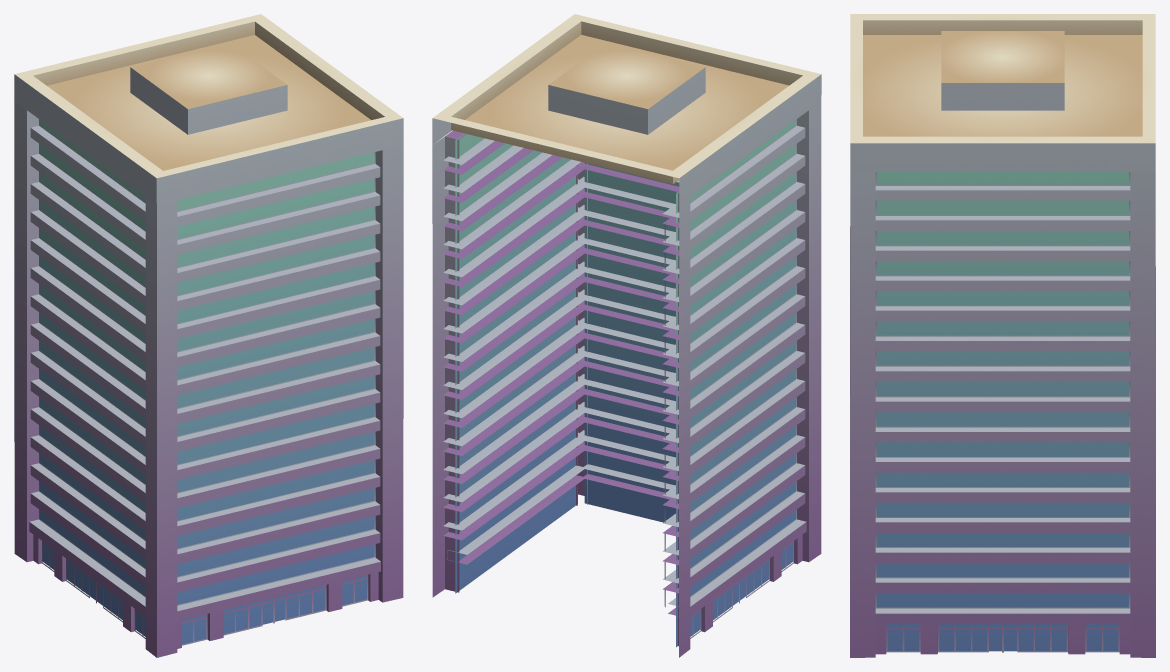
The picture shows the model from 3 angles, left to right: view 1: azimuth 30°, elevation 25°; view 2: azimuth 150°, elevation 25°; view 3: azimuth 270°, elevation 25°; orthographic projection. The views are drawn at different scales.
Visible parts, largest first — view 1: SM_16F_02; view 2: SM_16F_02; view 3: SM_16F_02.
Boxes of the visible parts, x1,y1,x2,y2 form: SM_16F_02: (14, 14, 403, 657); SM_16F_02: (432, 14, 821, 657); SM_16F_02: (850, 14, 1155, 657).
Size of the model in its own units: 28.54 by 55.25 by 28.54.
